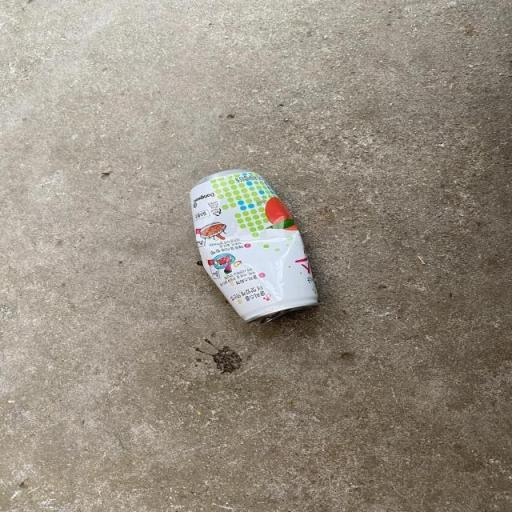metal: (132, 149, 436, 368)
